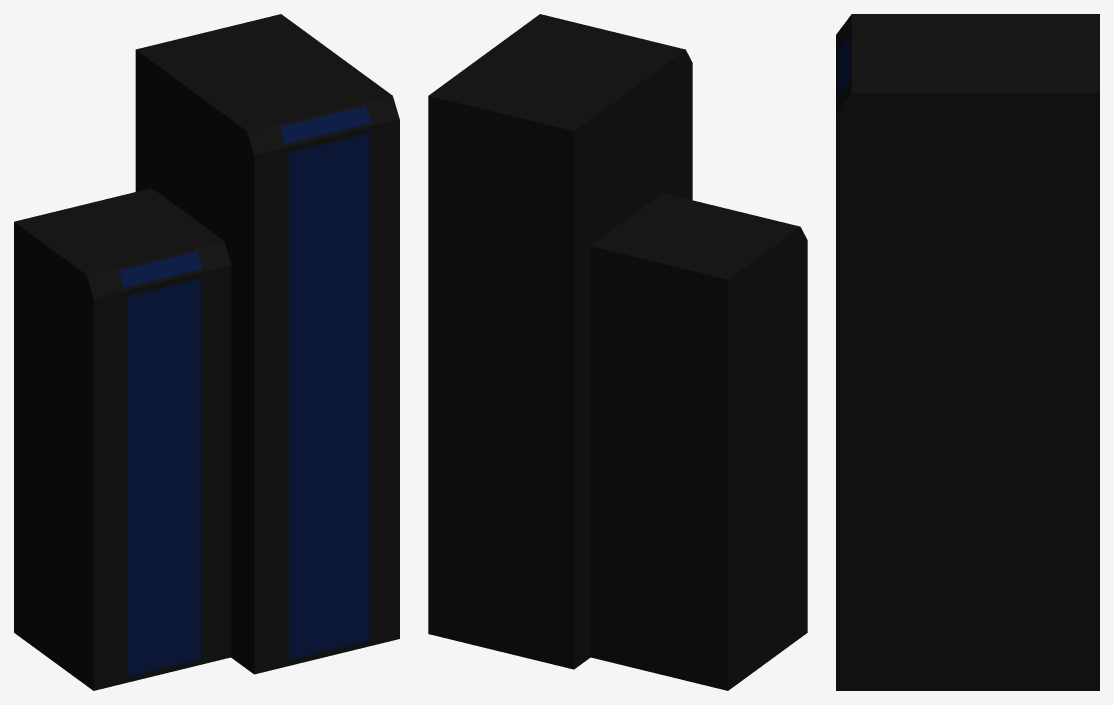
File: Building_007_2st_L3.fbx
The picture shows the model from 3 angles, left to right: view 1: azimuth 30°, elevation 25°; view 2: azimuth 150°, elevation 25°; view 3: azimuth 270°, elevation 25°; orthographic projection. The views are drawn at different scales.
Parts seen in each view (by area): view 1: Building_007_2st_L3; view 2: Building_007_2st_L3; view 3: Building_007_2st_L3.
Boxes of the visible parts, box(x1,y1,x2,y2) form: Building_007_2st_L3: box(14, 14, 399, 690); Building_007_2st_L3: box(428, 14, 807, 690); Building_007_2st_L3: box(836, 14, 1099, 690).
Size of the model in its own units: 47.41 by 85.9 by 34.34.
